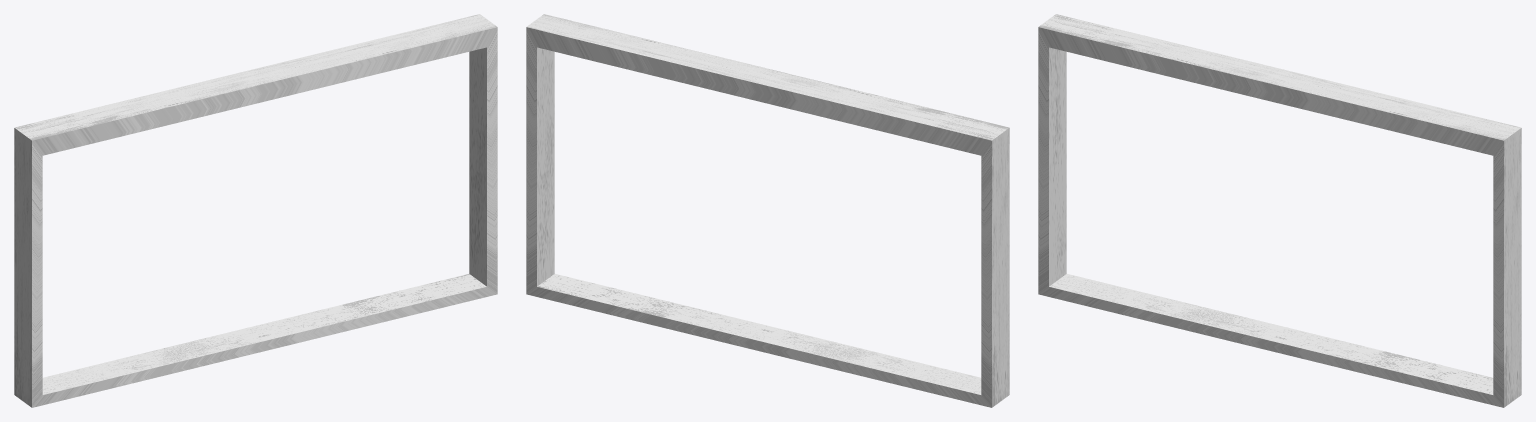
Rendered from wide_door_frame.FBX.
The picture shows the model from 3 angles, left to right: view 1: azimuth 30°, elevation 25°; view 2: azimuth 150°, elevation 25°; view 3: azimuth 330°, elevation 25°; orthographic projection.
Visible parts, largest first — view 1: Box001; view 2: Box001; view 3: Box001.
Boxes of the visible parts, x1,y1,x2,y2 form: Box001: (14, 14, 497, 407); Box001: (526, 14, 1009, 407); Box001: (1038, 14, 1521, 407).
Size of the model in its own units: 66.66 by 36.56 by 4.42.
